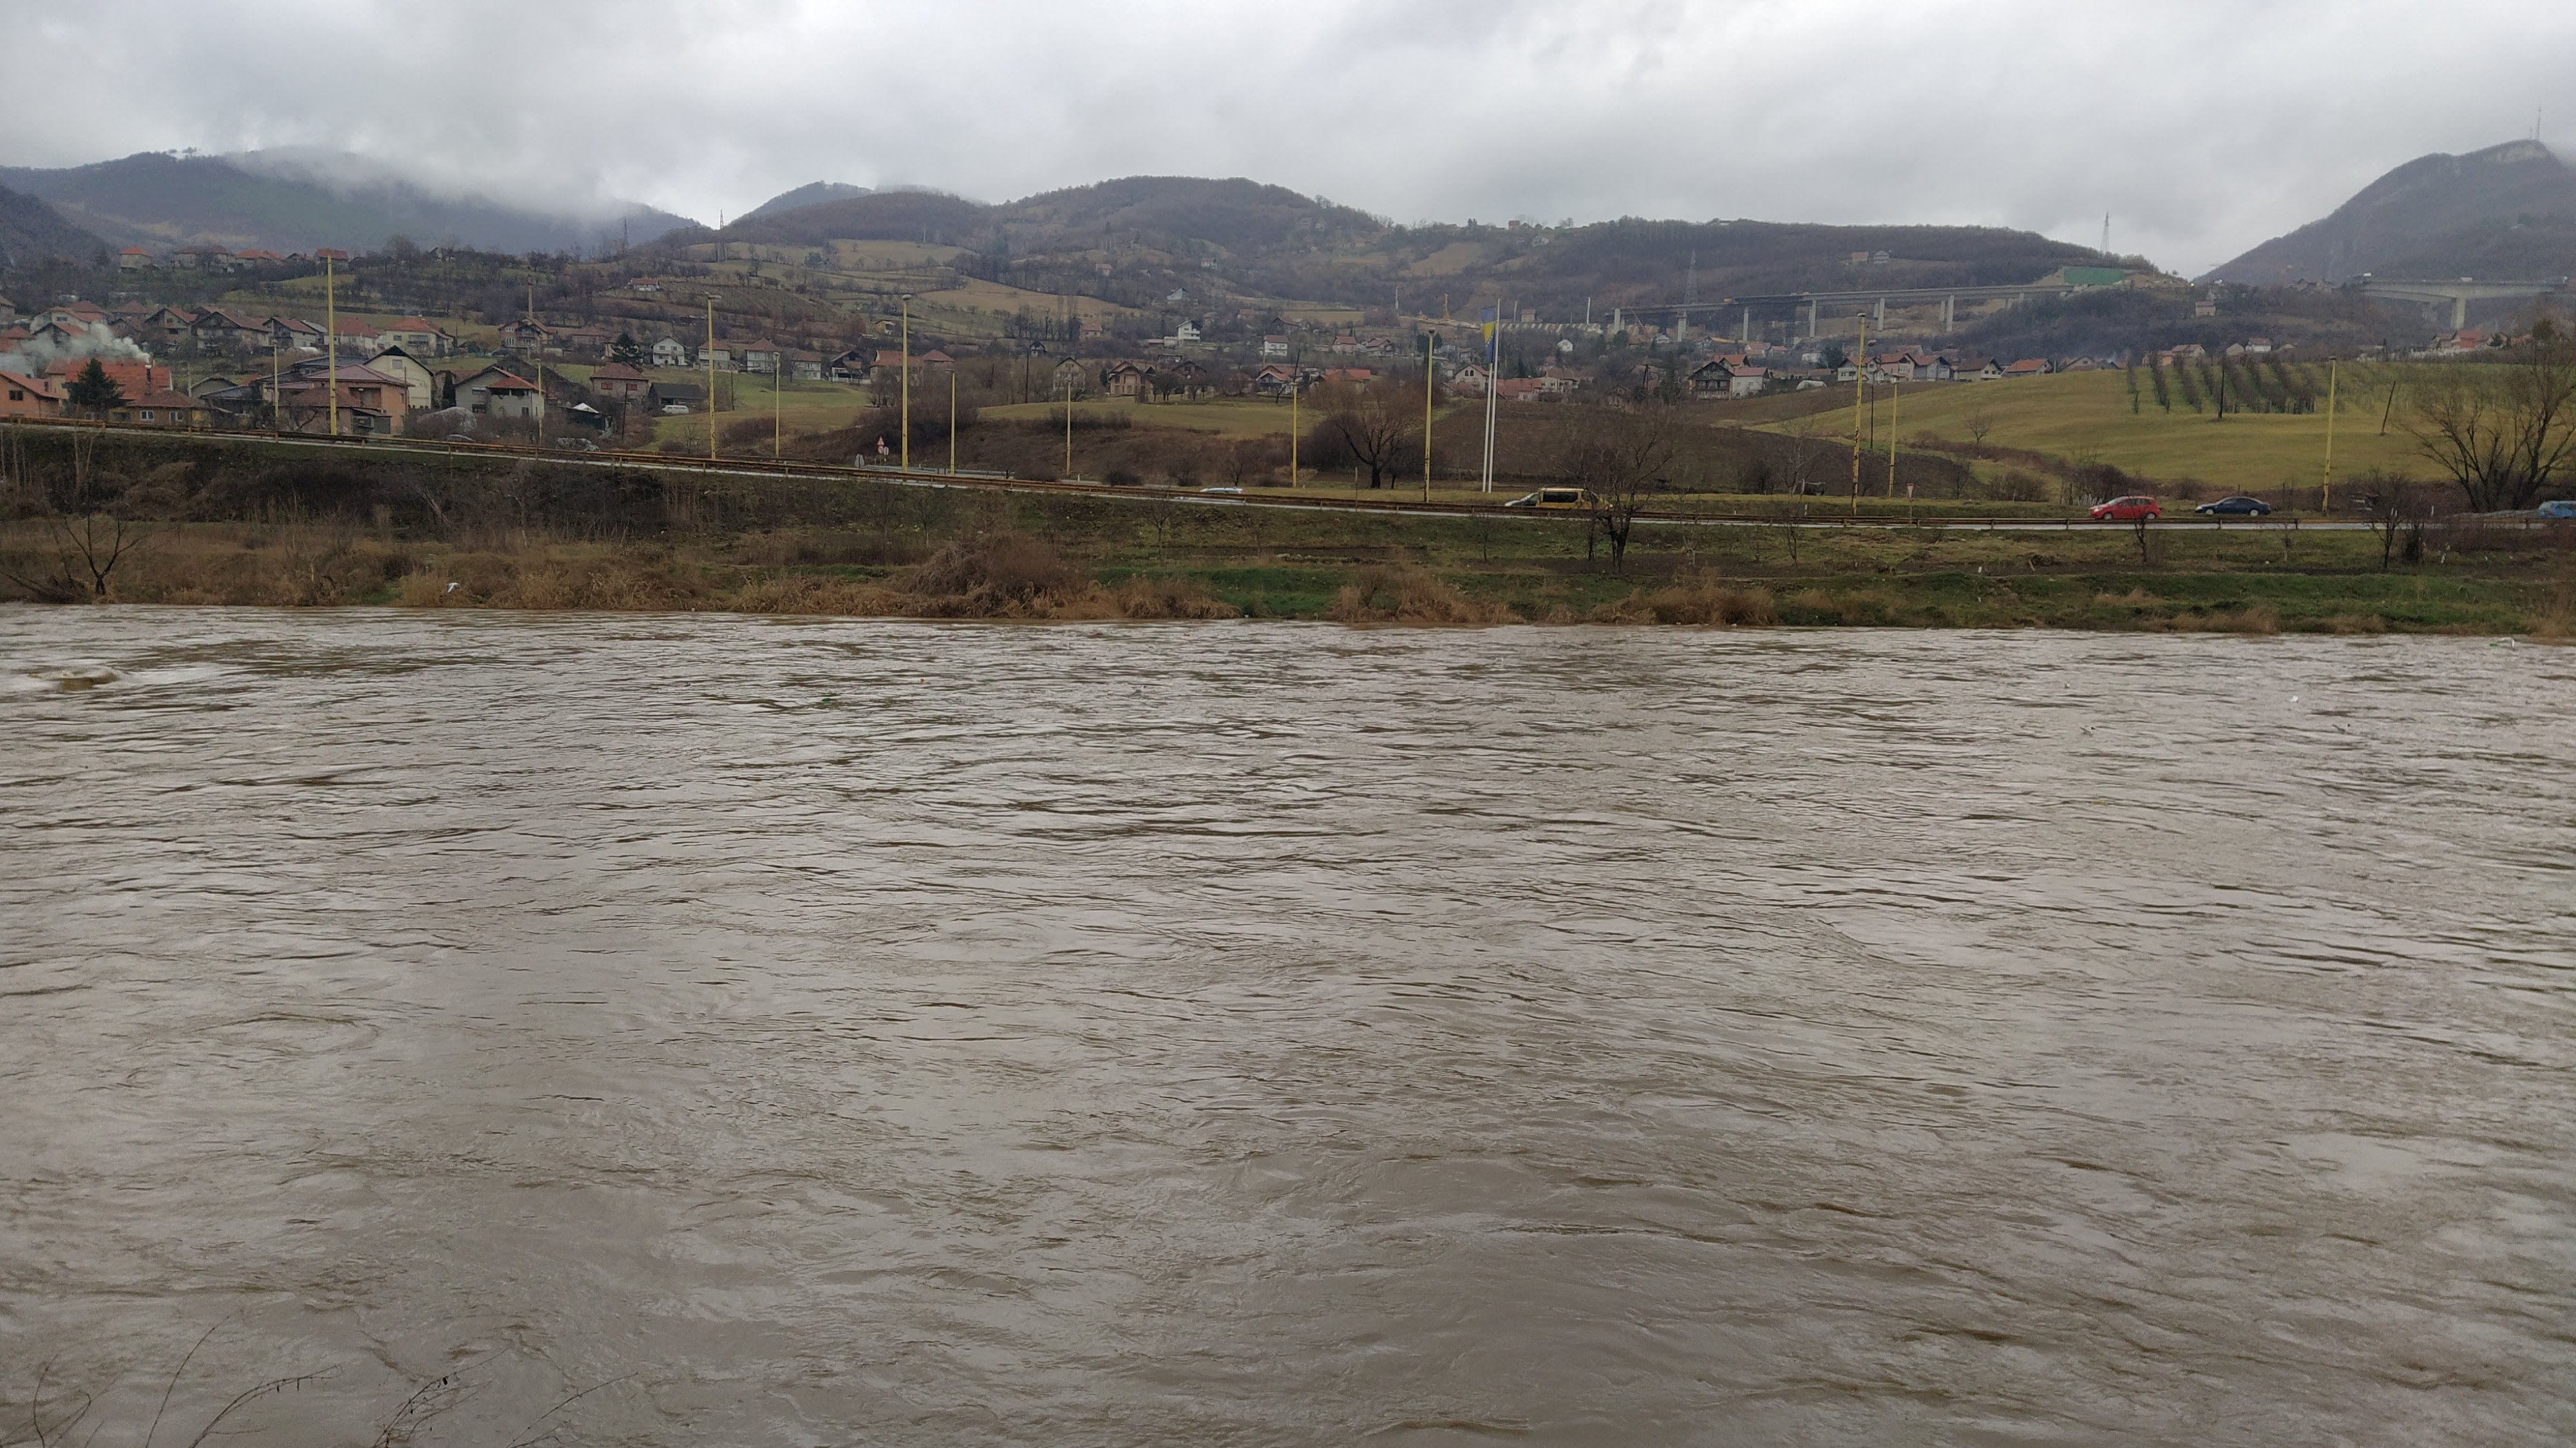Plastic Bottle: (821, 697, 830, 701), (2489, 643, 2498, 646), (2291, 696, 2296, 701), (1890, 659, 1898, 660), (920, 678, 924, 682)
